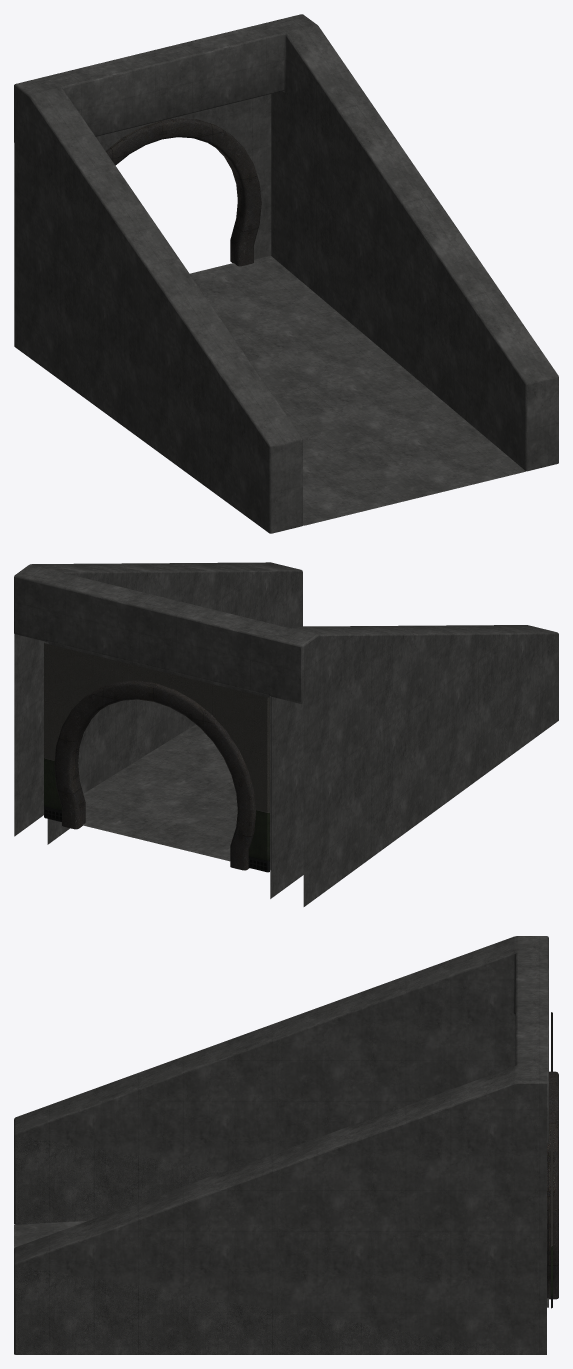
The model's file is bunker_entrance_1.glb.
3 views of the same model, one above another, from view 1: azimuth 30°, elevation 25°; view 2: azimuth 150°, elevation 25°; view 3: azimuth 270°, elevation 25° (orthographic). The views are drawn at different scales.
Visible parts, largest first — view 1: bunker_entrance_1; view 2: bunker_entrance_1; view 3: bunker_entrance_1.
Part boxes in pixels (bbox=[...]): bunker_entrance_1: bbox=[14, 14, 558, 533]; bunker_entrance_1: bbox=[14, 562, 558, 906]; bunker_entrance_1: bbox=[14, 936, 558, 1354].
Bounding box in the file's own units: 5.2 × 4.5 × 8.15.
Materials: 3 (3 with a texture image).
